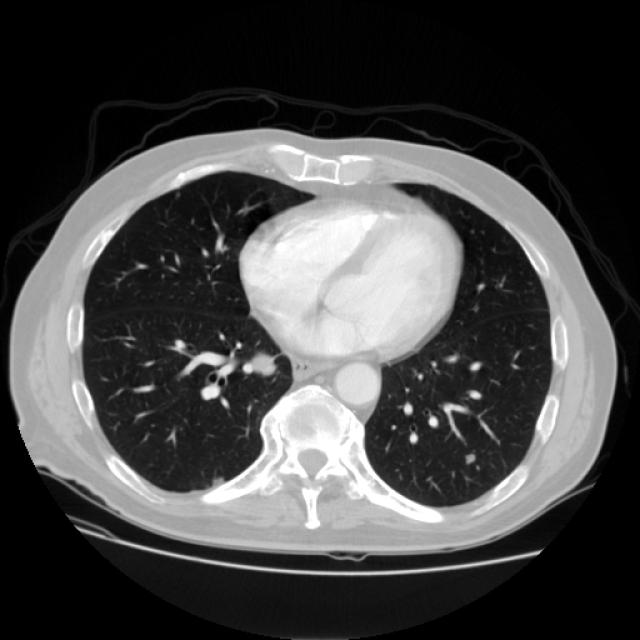nodule: (456, 445, 482, 470)
